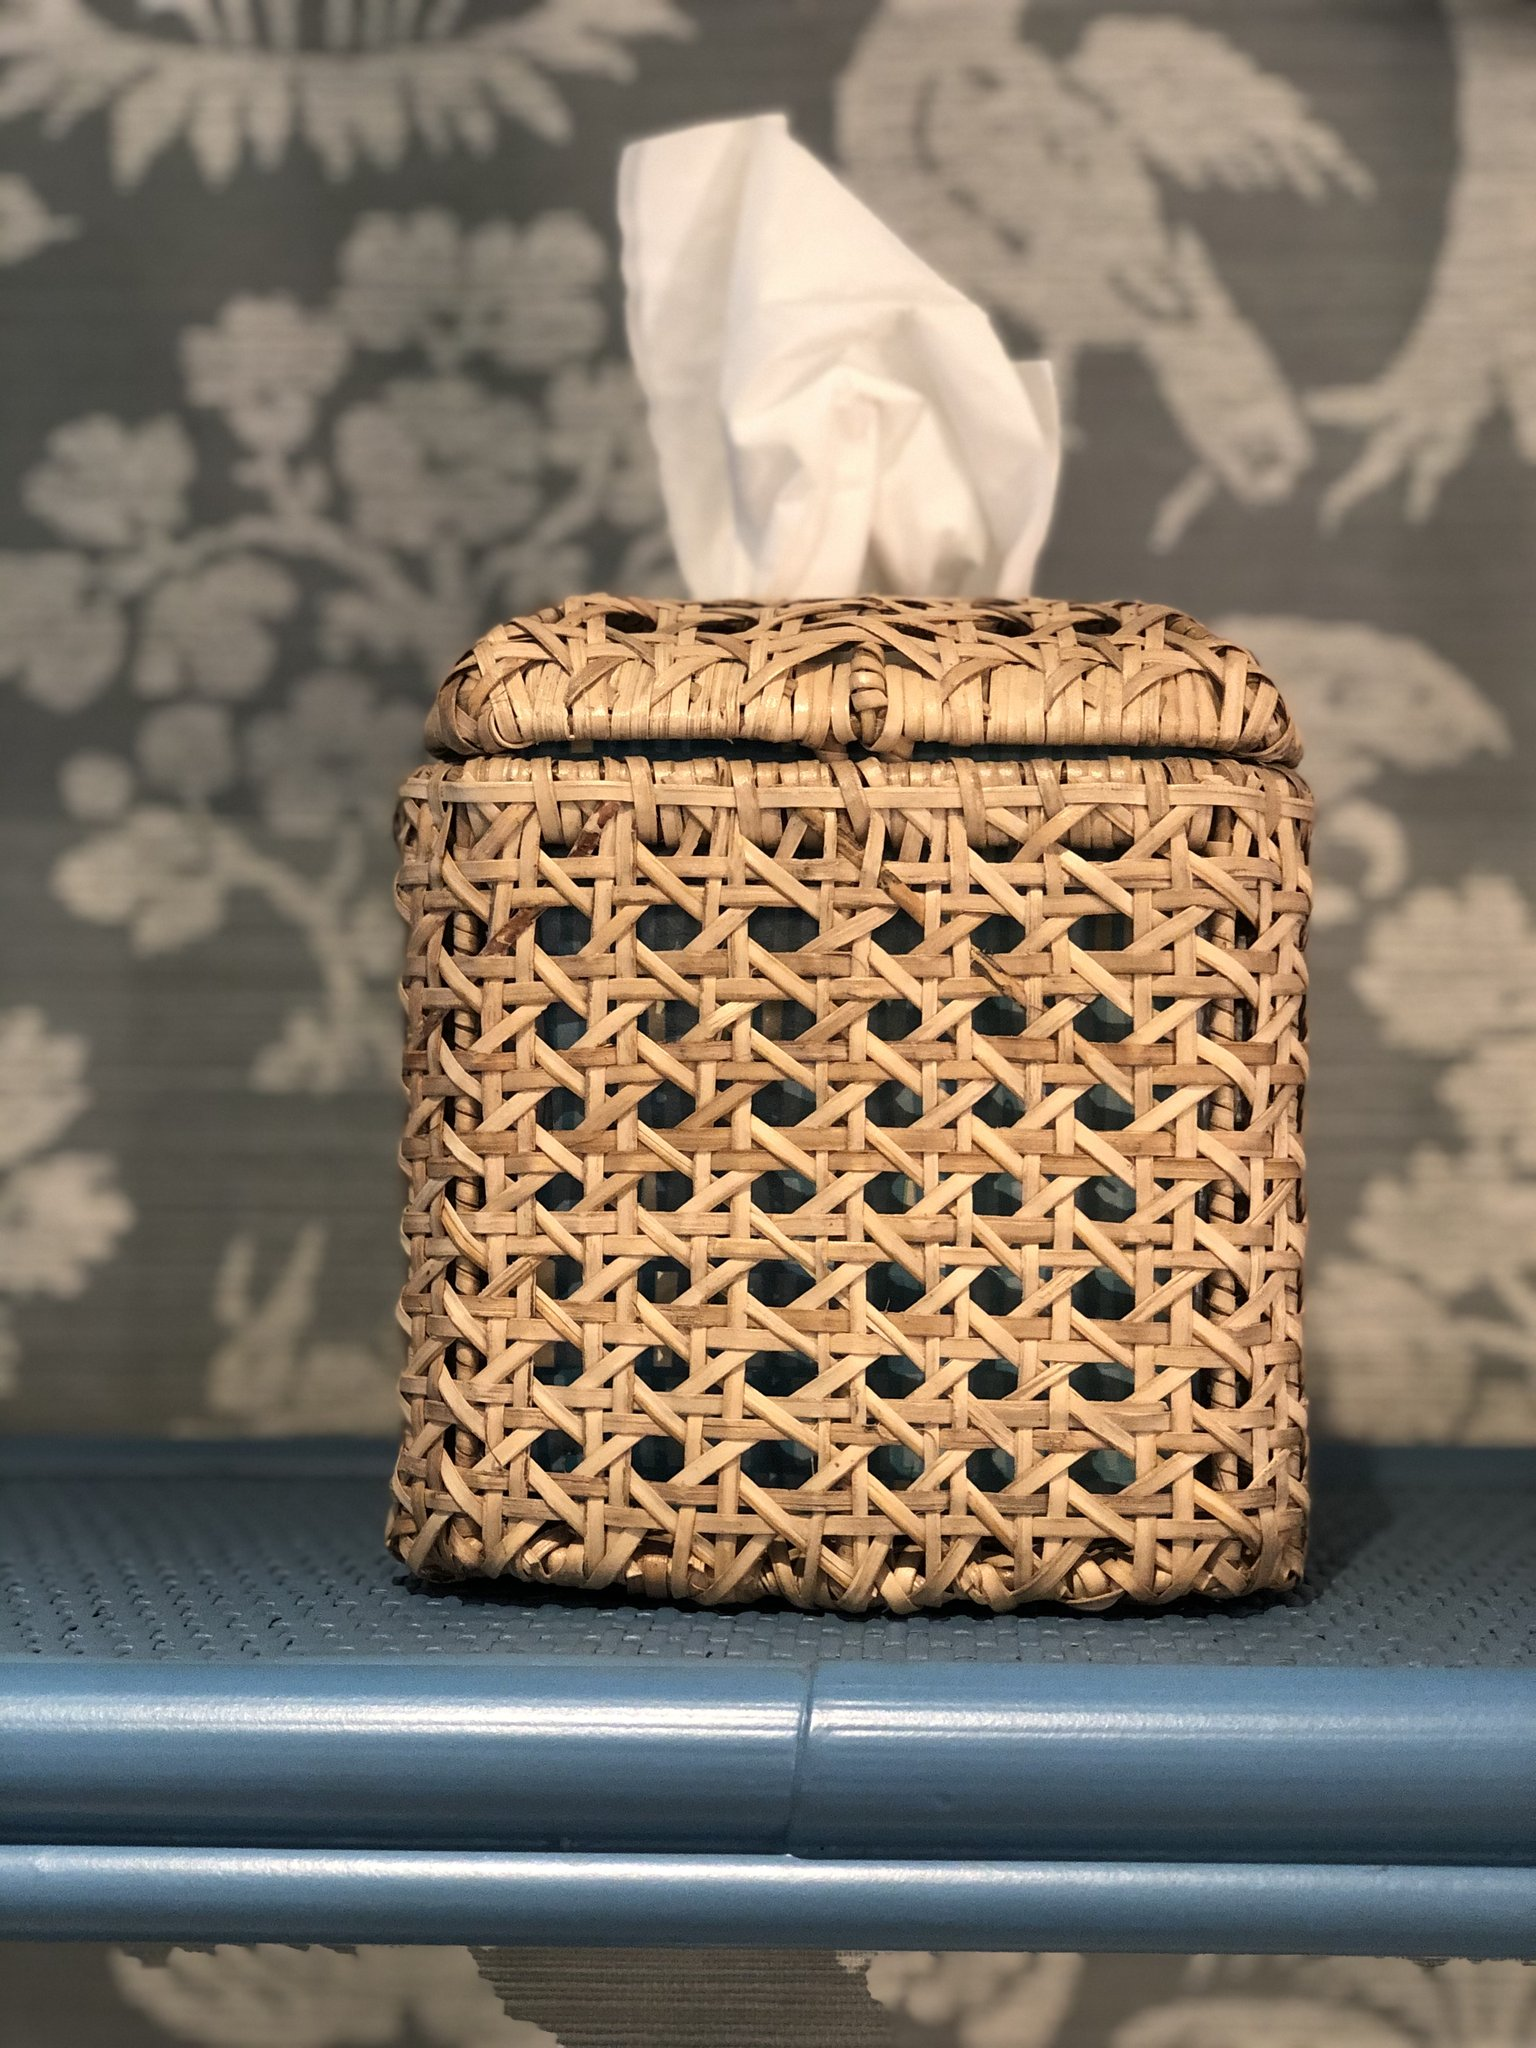Tissue: (608, 106, 1078, 611)
